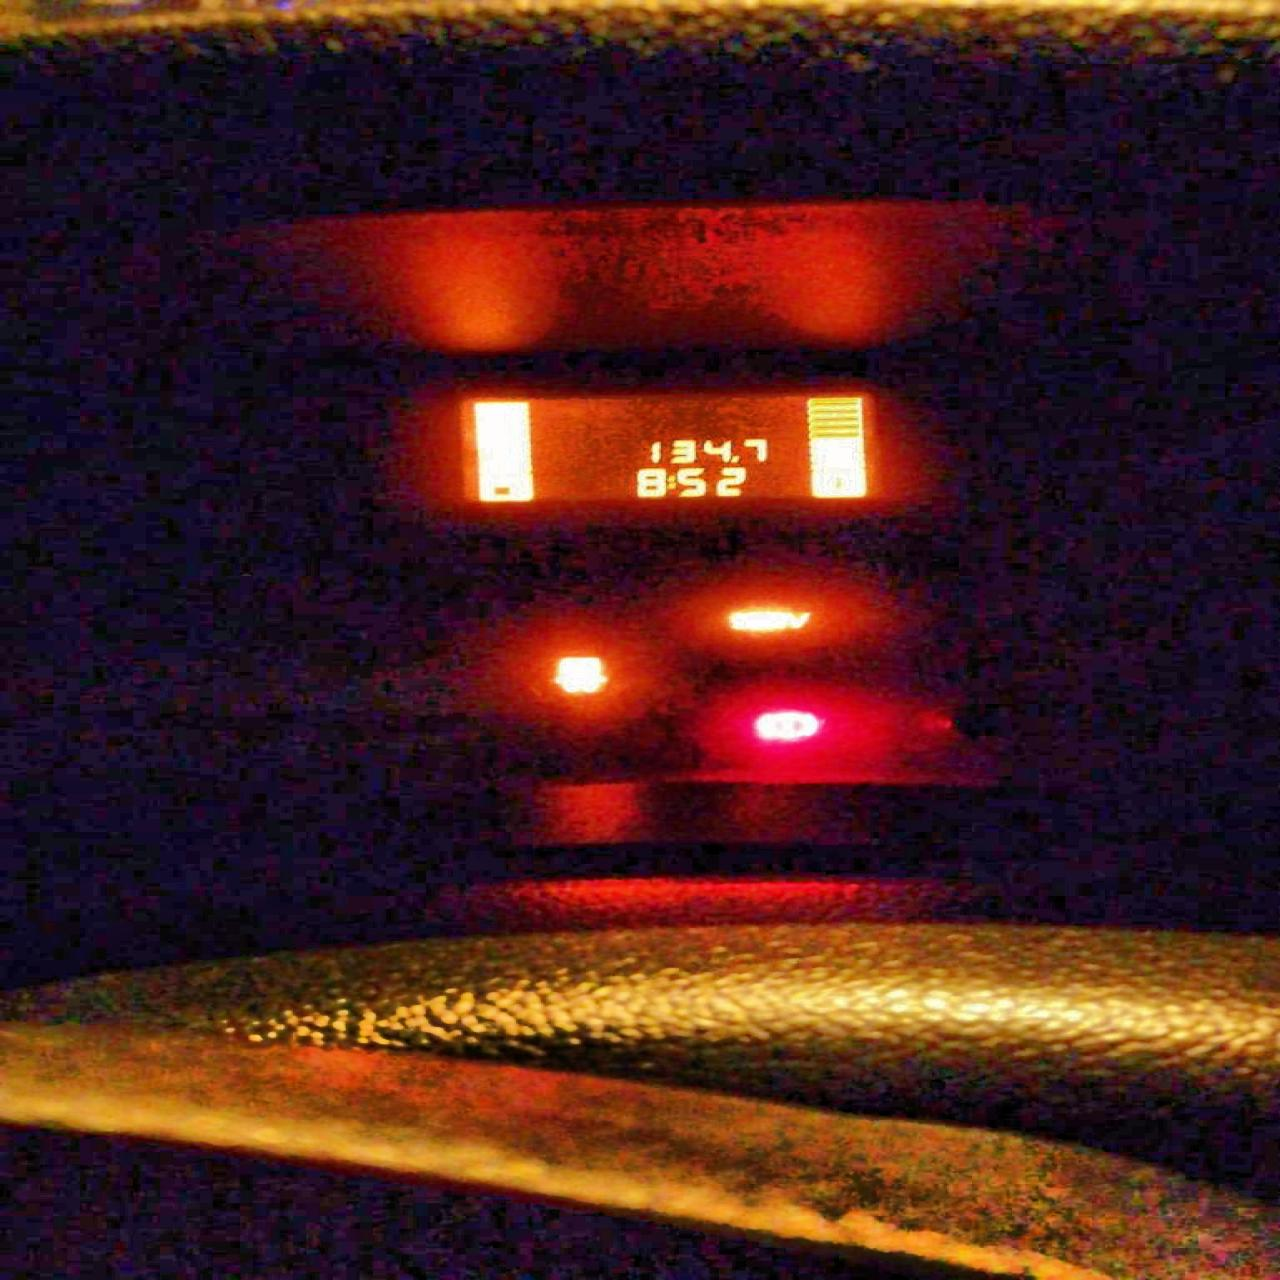-: (727, 454, 738, 463)
1: (647, 440, 662, 463)
2: (714, 465, 745, 497)
3: (667, 438, 696, 463)
4: (701, 440, 730, 463)
5: (676, 467, 706, 497)
7: (742, 437, 768, 462)
8: (632, 468, 666, 498)
X: (666, 474, 678, 489)
odometer: (451, 389, 881, 505)
